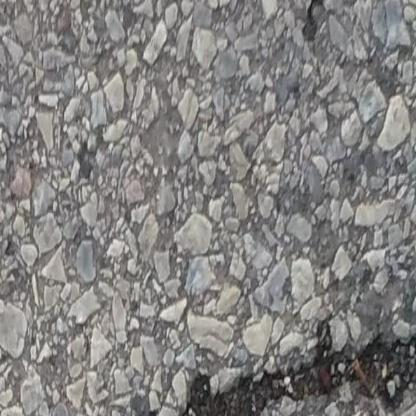Cracks: (123, 314, 416, 416)
